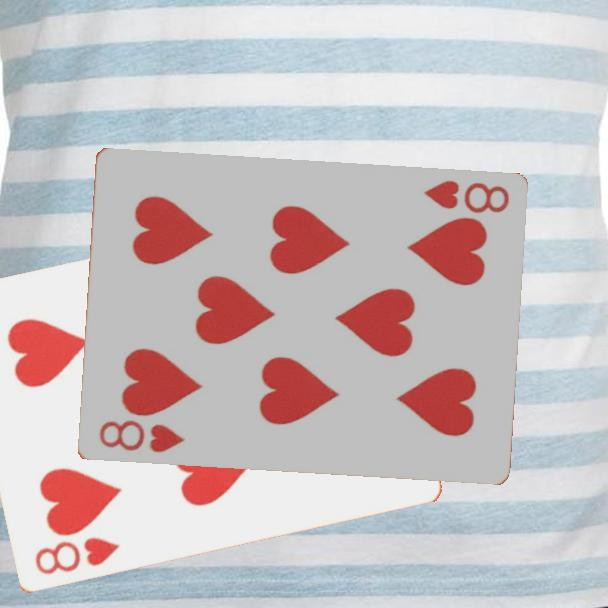h08: (31, 534, 122, 578), (420, 177, 512, 217), (95, 417, 187, 456)
